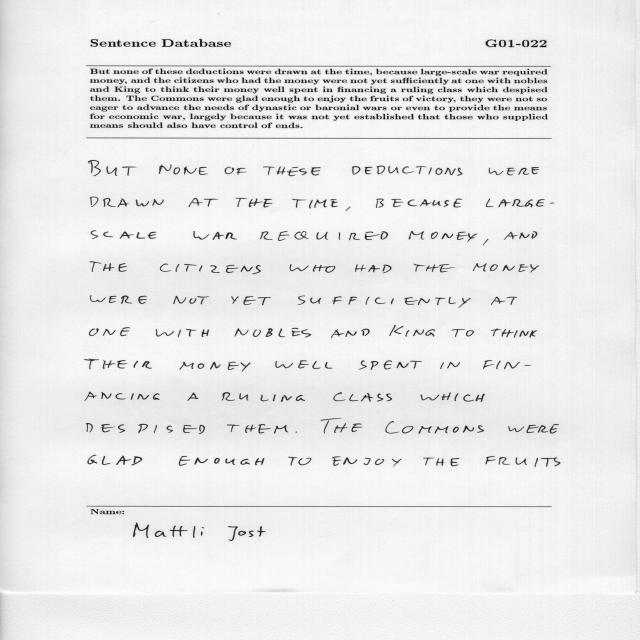word: (298, 296, 471, 308), (86, 423, 205, 434), (260, 231, 388, 241), (386, 421, 484, 434), (352, 166, 463, 176), (160, 264, 261, 274), (179, 456, 264, 466), (222, 392, 305, 402), (486, 456, 561, 467), (376, 199, 462, 208), (332, 456, 402, 467), (89, 160, 137, 176), (235, 328, 311, 338), (409, 231, 477, 242), (90, 197, 164, 207), (180, 362, 251, 372), (85, 359, 152, 369), (85, 392, 159, 401), (473, 263, 539, 273), (420, 392, 485, 402), (358, 360, 422, 370), (321, 419, 363, 434), (228, 424, 289, 434), (91, 230, 157, 239), (88, 455, 142, 466), (263, 167, 321, 177), (389, 325, 435, 337), (486, 199, 554, 207), (333, 393, 392, 402), (276, 360, 333, 369), (508, 424, 559, 434), (159, 165, 208, 175), (292, 199, 338, 209), (90, 296, 147, 304), (483, 360, 531, 369), (156, 329, 209, 337), (491, 329, 537, 338), (290, 264, 335, 273), (489, 167, 539, 175), (193, 231, 237, 240), (90, 262, 127, 272), (89, 327, 130, 336), (231, 296, 271, 305), (331, 329, 370, 338), (236, 198, 273, 207), (355, 265, 392, 274), (414, 264, 455, 272), (504, 231, 537, 240), (173, 296, 209, 304), (424, 458, 460, 466), (188, 198, 218, 207), (491, 297, 517, 305), (289, 457, 312, 465), (225, 167, 247, 175), (452, 329, 474, 337), (440, 362, 460, 369), (188, 393, 199, 401), (483, 239, 488, 245), (346, 207, 351, 211), (295, 431, 297, 433)
